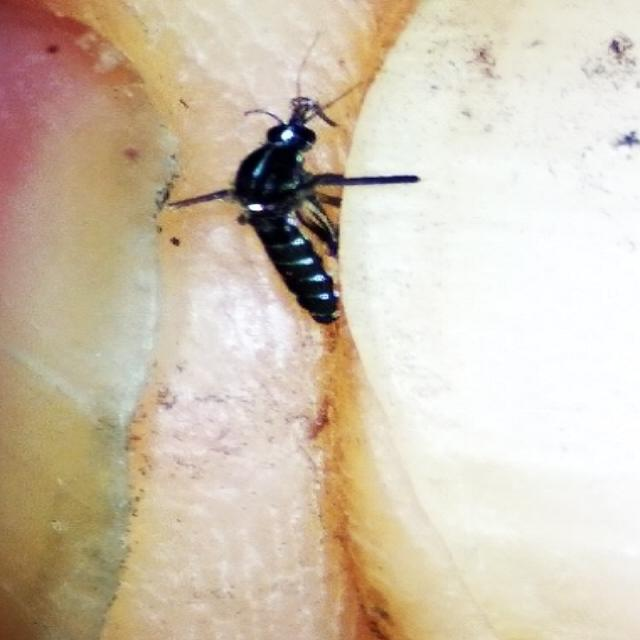albopictus: (142, 51, 449, 342)
